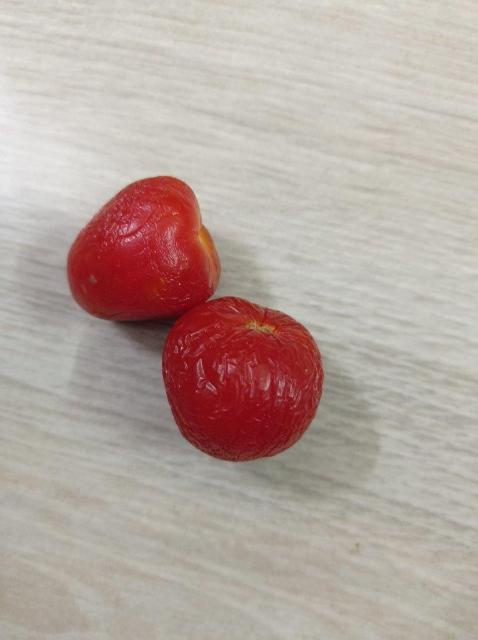defect: (161, 293, 324, 463), (65, 176, 221, 325)
